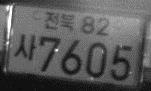0: (85, 41, 107, 78)
2: (95, 17, 110, 36)
5: (108, 43, 132, 80)
6: (59, 38, 81, 75)
7: (38, 35, 60, 72)
8: (80, 14, 95, 34)
사: (12, 32, 37, 61)
전북_H: (43, 10, 75, 32)
